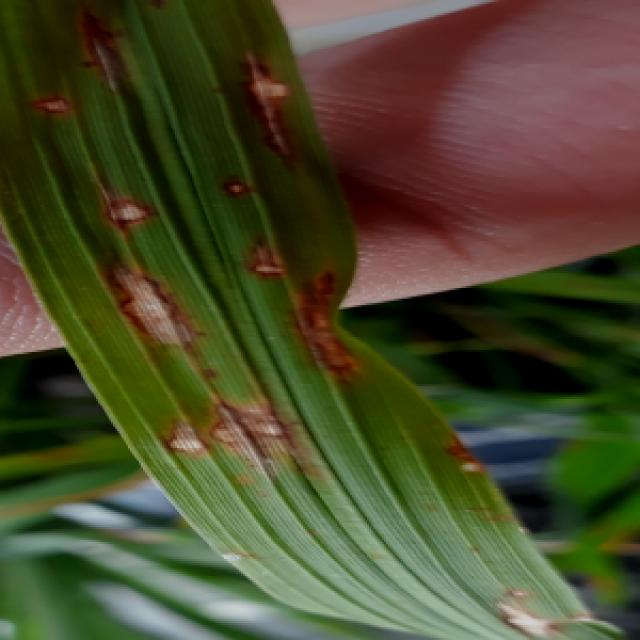Brown_Spot: (90, 186, 198, 360), (156, 396, 314, 474), (45, 0, 156, 92)
